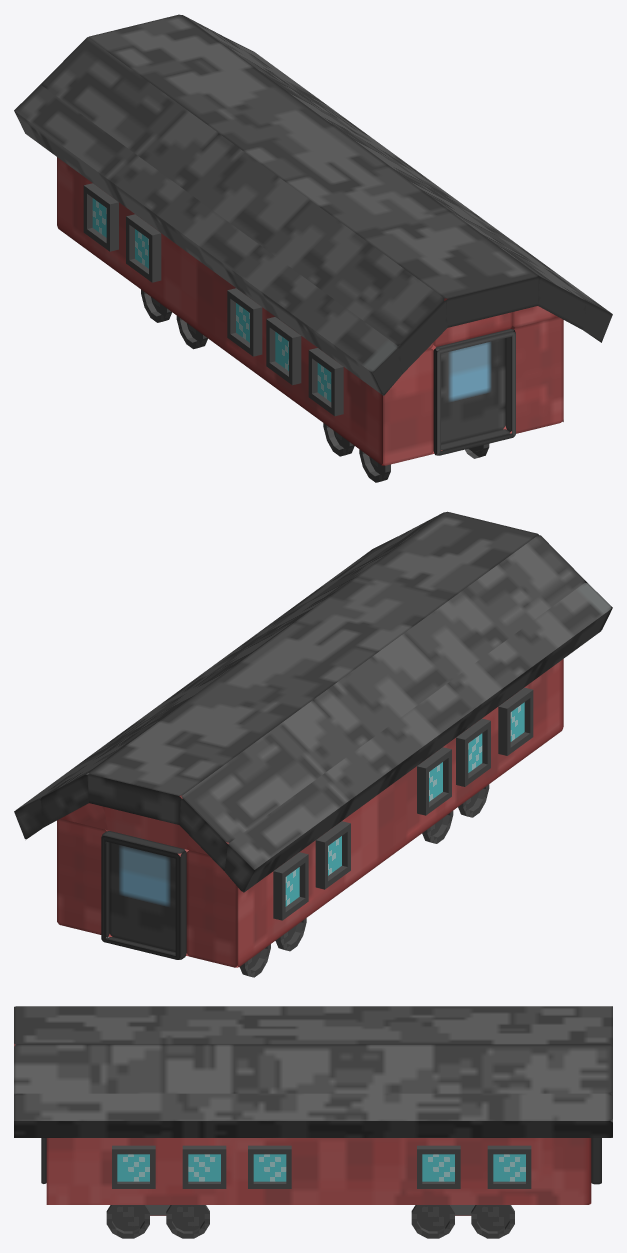
File: ToaTau04.fbx
3 views of the same model, one above another, from view 1: azimuth 30°, elevation 25°; view 2: azimuth 150°, elevation 25°; view 3: azimuth 270°, elevation 25° (orthographic). The views are drawn at different scales.
Visible parts, largest first — view 1: toa01, Window01_2, Window01_4, Window01, Window01_3, Window01_1; view 2: toa01, Window01, Window01_3, Window01_4, Window01_2, Window01_1; view 3: toa01, Window01_1, Window01_4, Window01, Window01_2, Window01_3, circle_6, circle, circle_4, circle_2.
Part boxes in pixels (left/top/right/bottom): toa01: left=14, top=14, right=612, bottom=465; Window01_2: left=227, top=288, right=262, bottom=356; Window01_4: left=83, top=183, right=118, bottom=251; Window01: left=308, top=348, right=343, bottom=416; Window01_3: left=126, top=214, right=161, bottom=282; Window01_1: left=266, top=317, right=301, bottom=385; toa01: left=14, top=511, right=612, bottom=967; Window01: left=498, top=687, right=533, bottom=755; Window01_3: left=315, top=821, right=350, bottom=889; Window01_4: left=273, top=852, right=308, bottom=920; Window01_2: left=417, top=747, right=451, bottom=815; Window01_1: left=456, top=718, right=490, bottom=786; toa01: left=14, top=1006, right=612, bottom=1204; Window01_1: left=182, top=1145, right=226, bottom=1188; Window01_4: left=487, top=1145, right=531, bottom=1188; Window01: left=112, top=1145, right=155, bottom=1188; Window01_2: left=248, top=1145, right=291, bottom=1188; Window01_3: left=417, top=1145, right=460, bottom=1188; circle_6: left=471, top=1205, right=514, bottom=1238; circle: left=166, top=1205, right=209, bottom=1238; circle_4: left=411, top=1205, right=454, bottom=1238; circle_2: left=106, top=1205, right=149, bottom=1238.
Bounding box in the file's own units: 266 × 243 × 688.
6 materials, 6 textured.
